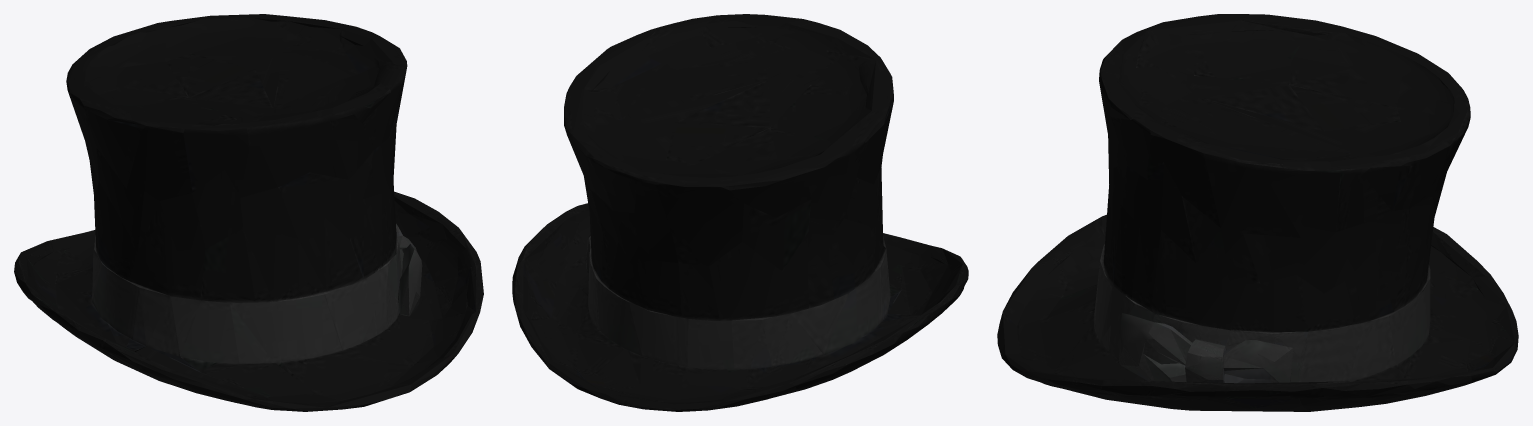
File: tophat.glb
3 views of the same model, side by side, from view 1: azimuth 30°, elevation 25°; view 2: azimuth 150°, elevation 25°; view 3: azimuth 270°, elevation 25° (orthographic). The views are drawn at different scales.
Bounding box in the file's own units: 1.76 × 1.1 × 1.9.
1 material, 1 textured.
